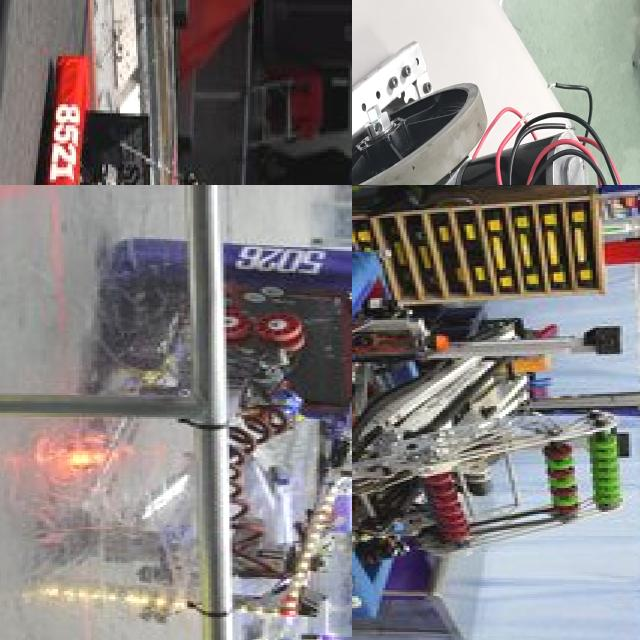FRC-Robots: (352, 185, 640, 640), (99, 185, 352, 640), (23, 28, 352, 185), (352, 13, 624, 185)
